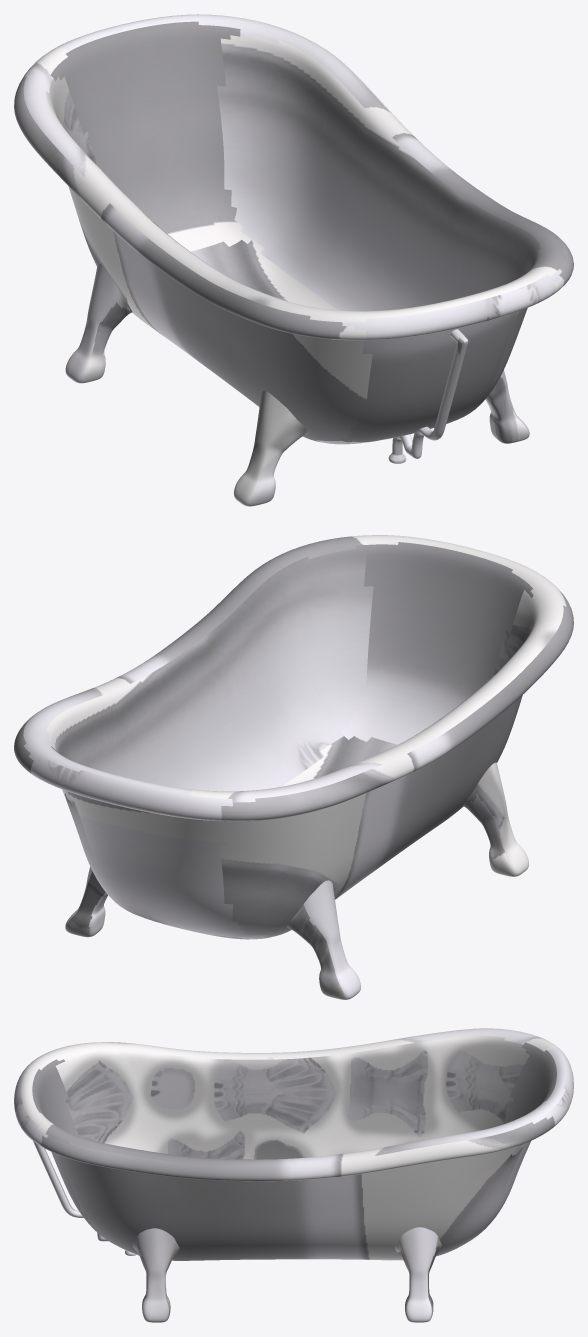
File: tubfbx 1.fbx
3 views of the same model, one above another, from view 1: azimuth 30°, elevation 25°; view 2: azimuth 150°, elevation 25°; view 3: azimuth 270°, elevation 25° (orthographic). The views are drawn at different scales.
Parts seen in each view (by area): view 1: _Whale_in_old_fashion_tub_v1; view 2: _Whale_in_old_fashion_tub_v1; view 3: _Whale_in_old_fashion_tub_v1.
Part boxes in pixels (bbox=[...]): _Whale_in_old_fashion_tub_v1: bbox=[14, 14, 573, 506]; _Whale_in_old_fashion_tub_v1: bbox=[14, 535, 573, 999]; _Whale_in_old_fashion_tub_v1: bbox=[14, 1028, 573, 1322].
Size of the model in its own units: 117 by 90.51 by 232.
